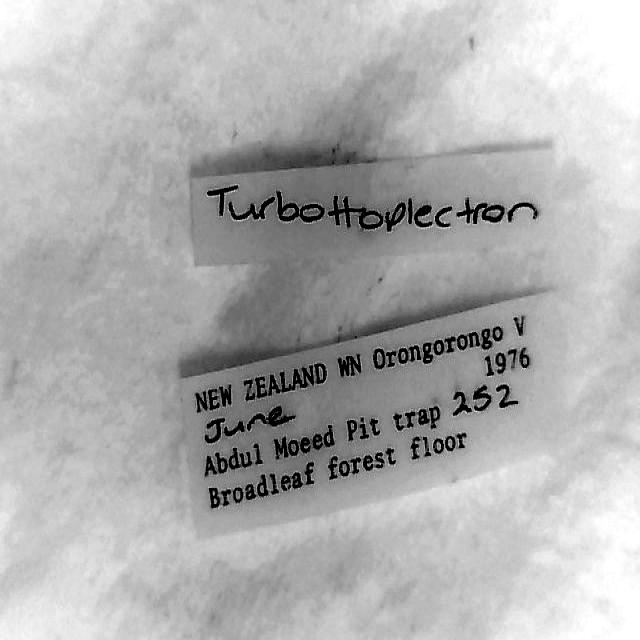hand_label: (191, 145, 552, 265)
mixed_label: (183, 296, 559, 533)
